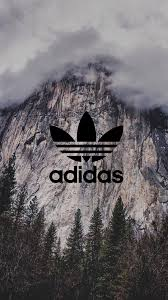adidas: (48, 110, 125, 183)
